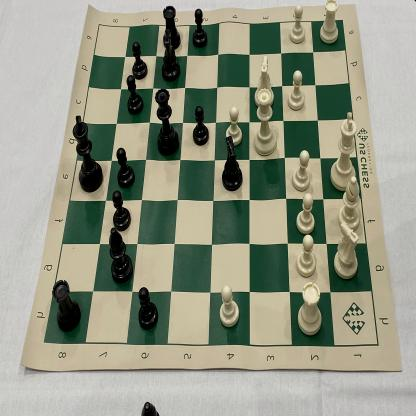black-bishop: (107, 227, 136, 284)
black-king: (71, 110, 105, 194)
black-knight: (220, 134, 244, 194), (160, 27, 181, 84)
black-pawn: (138, 284, 162, 332), (113, 145, 136, 190), (110, 188, 132, 233), (125, 72, 145, 116), (130, 37, 149, 82), (191, 5, 210, 50), (190, 103, 209, 147)
black-queen: (154, 85, 179, 159)
black-rook: (51, 277, 84, 333), (161, 3, 181, 51)
white-bishop: (337, 174, 364, 232)
white-king: (330, 111, 361, 191)
white-knight: (333, 221, 364, 281), (253, 52, 275, 106)
white-pawn: (290, 148, 315, 192), (294, 234, 318, 279), (218, 283, 240, 332), (295, 192, 318, 235), (224, 103, 244, 147), (286, 68, 306, 112), (287, 3, 307, 46)
white-queen: (251, 87, 278, 158)
white-rook: (296, 280, 324, 335), (318, 0, 343, 46)
